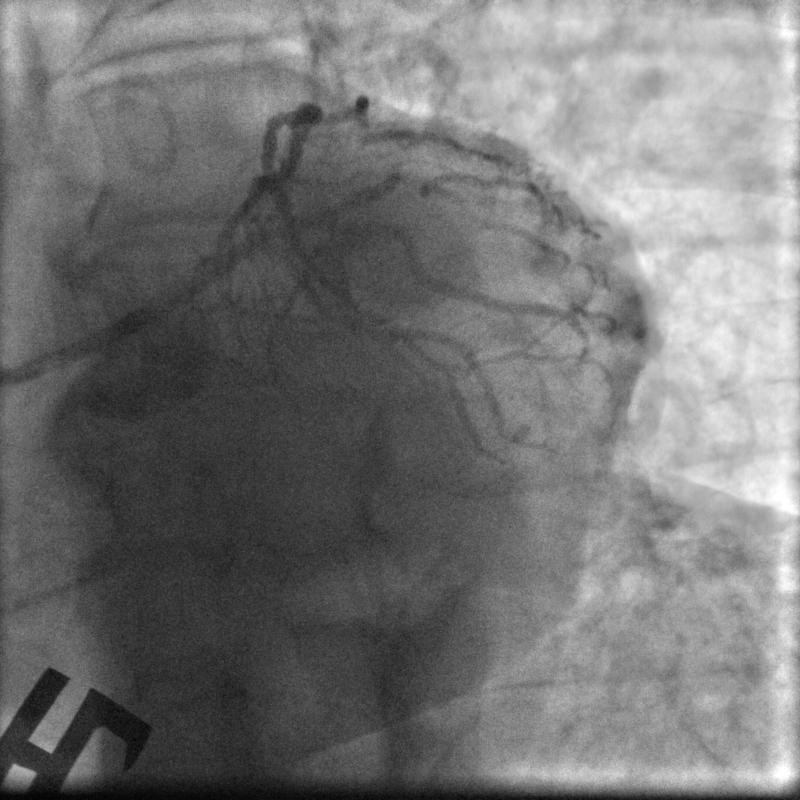Stenosis: (386, 169, 436, 199)
